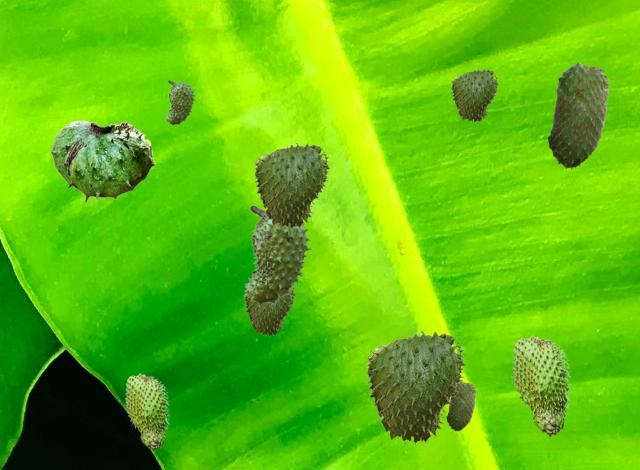guyabano: (366, 330, 466, 445), (50, 120, 154, 202), (243, 205, 312, 306), (254, 142, 330, 229), (547, 62, 609, 168), (511, 335, 571, 436), (124, 373, 169, 450), (451, 68, 498, 122), (244, 287, 295, 336), (446, 382, 475, 430), (165, 80, 195, 125)
